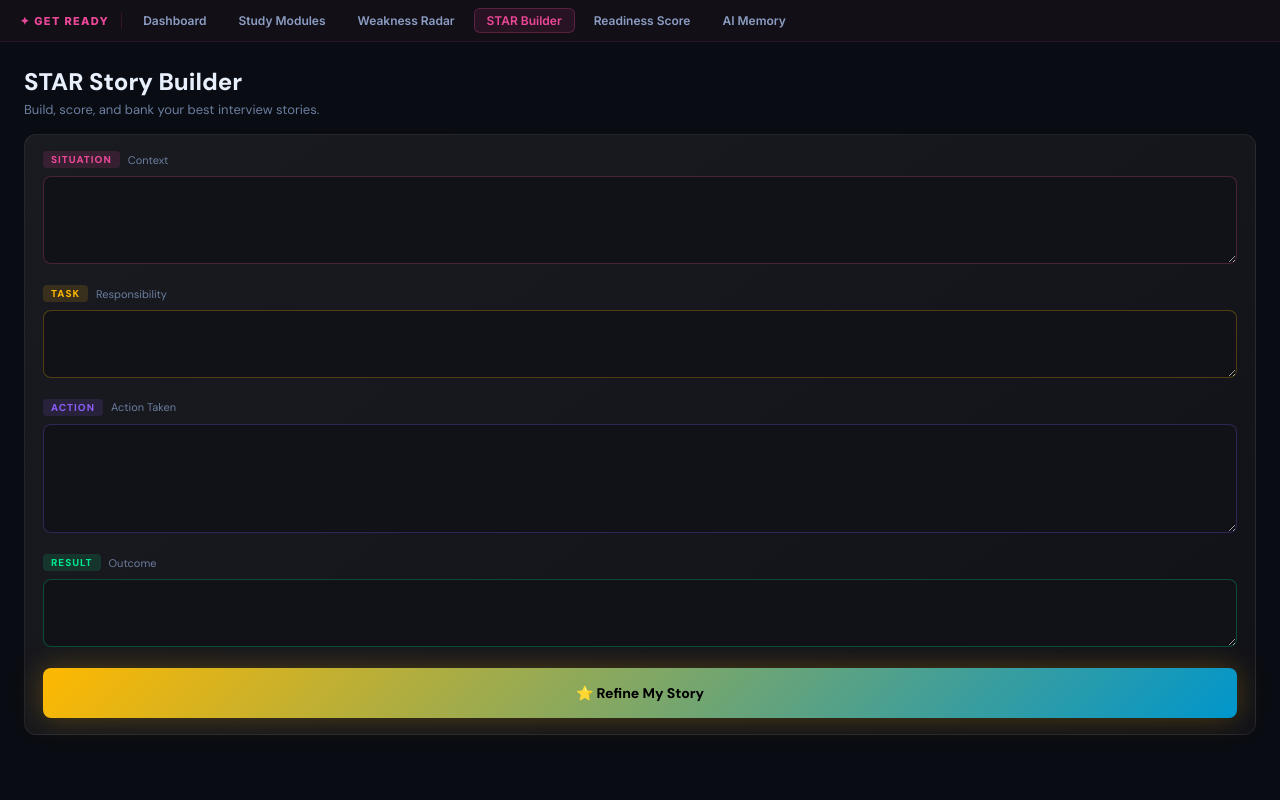
Test: STARBuilder › shows no claims warning for a faithful polish
The width and height of the screenshot is (1280, 800).
In the text box named "Situation": (640, 220) 43,176 -> 1237,264, type "Our checkout team had to migrate platforms while 2 million users shopped daily."
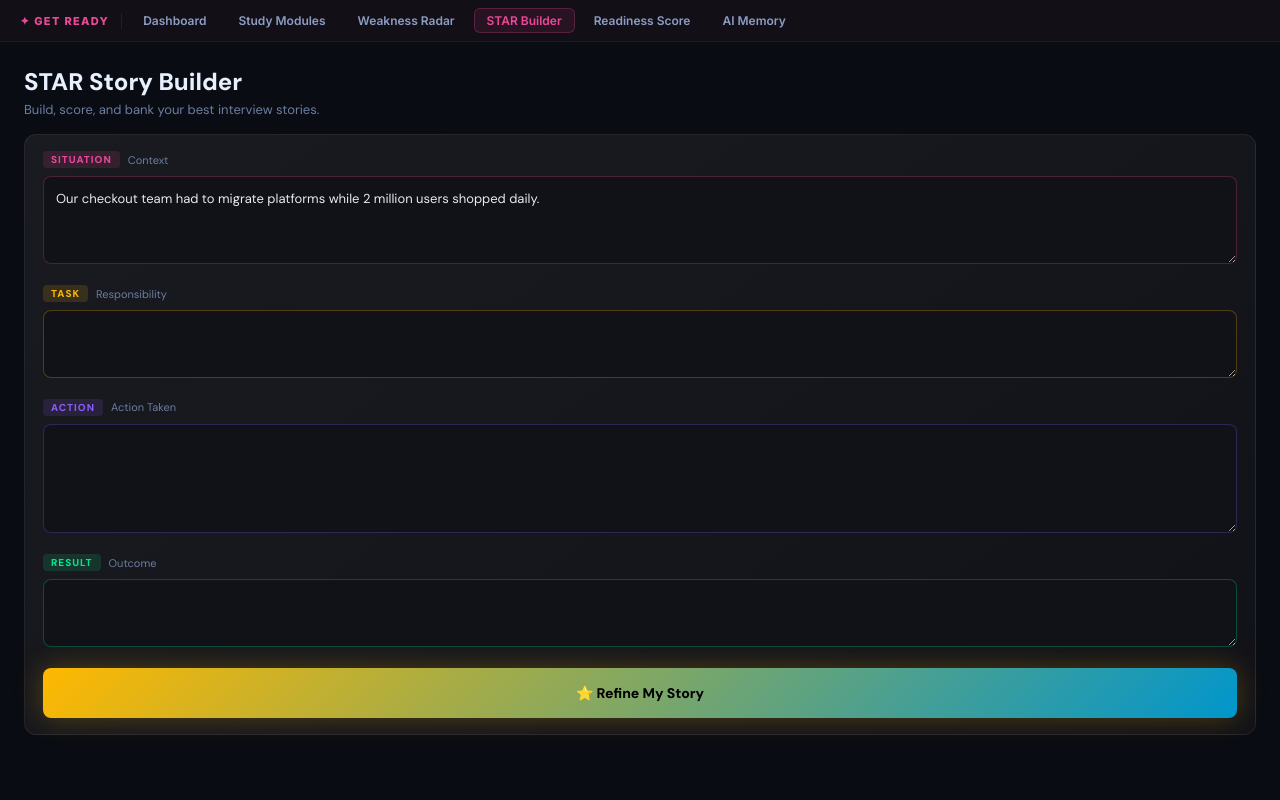
In the text box named "Task": (640, 344) 43,310 -> 1237,378, type "I owned the migration plan and had to avoid downtime."
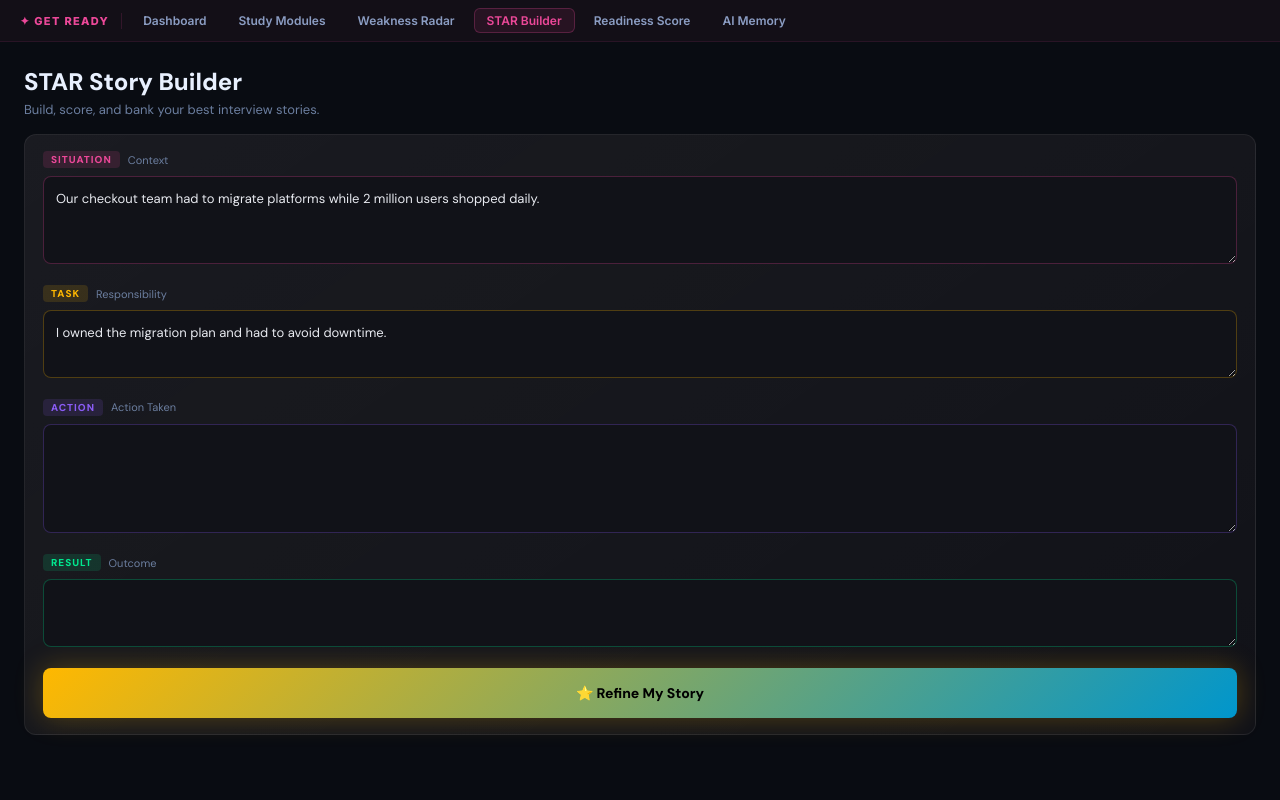
In the text box named "Action": (640, 479) 43,424 -> 1237,533, type "I set up blue-green deployments and wrote rollback scripts."
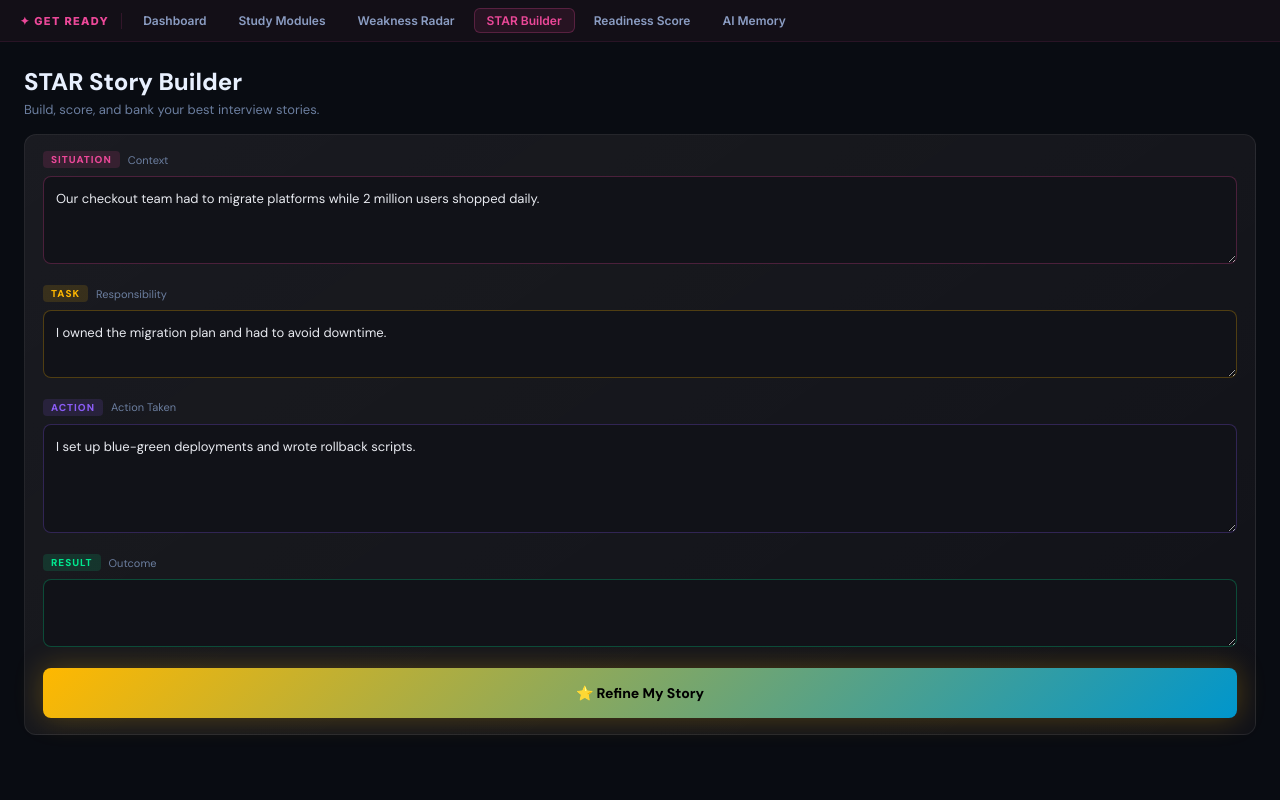
In the text box named "Result": (640, 613) 43,579 -> 1237,647, type "We finished with no downtime and conversion rose 15 percent."
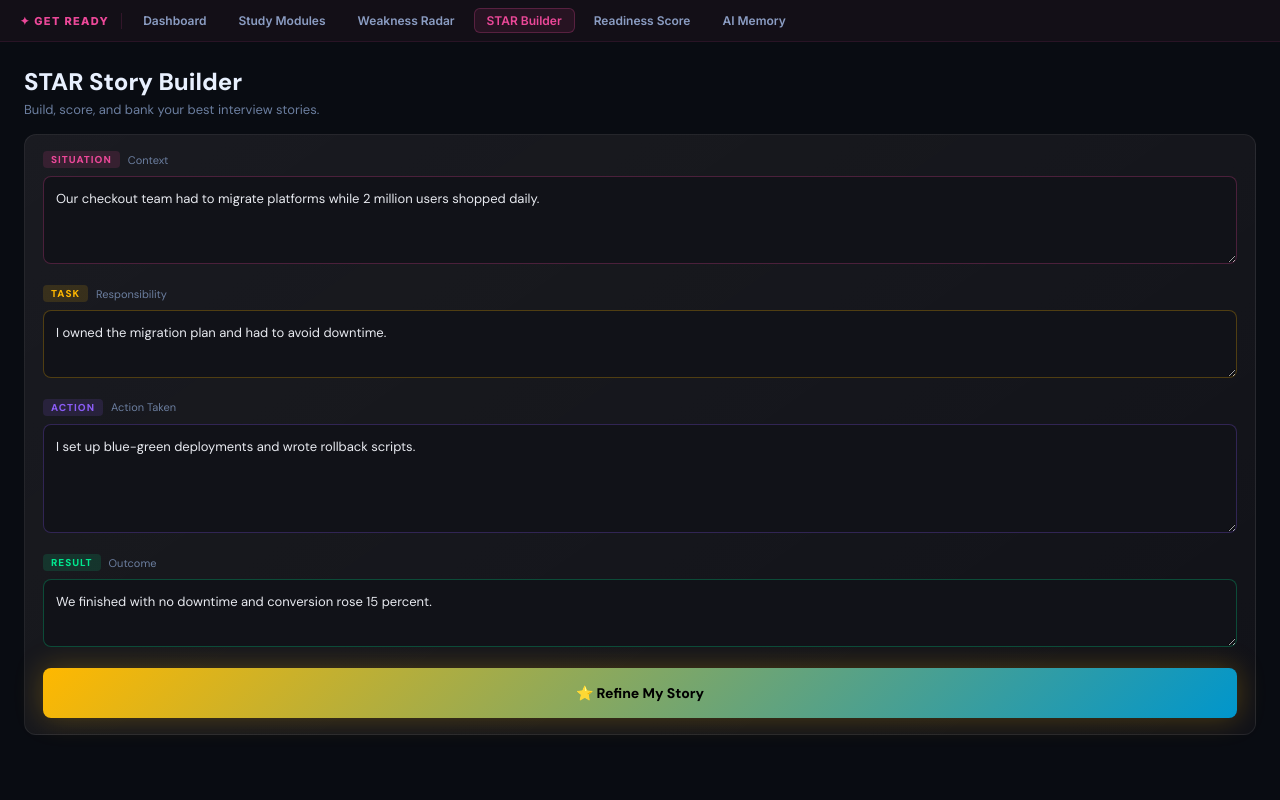
Click the button "⭐ Refine My Story": (640, 693) 43,668 -> 1237,718
(page scrolled)
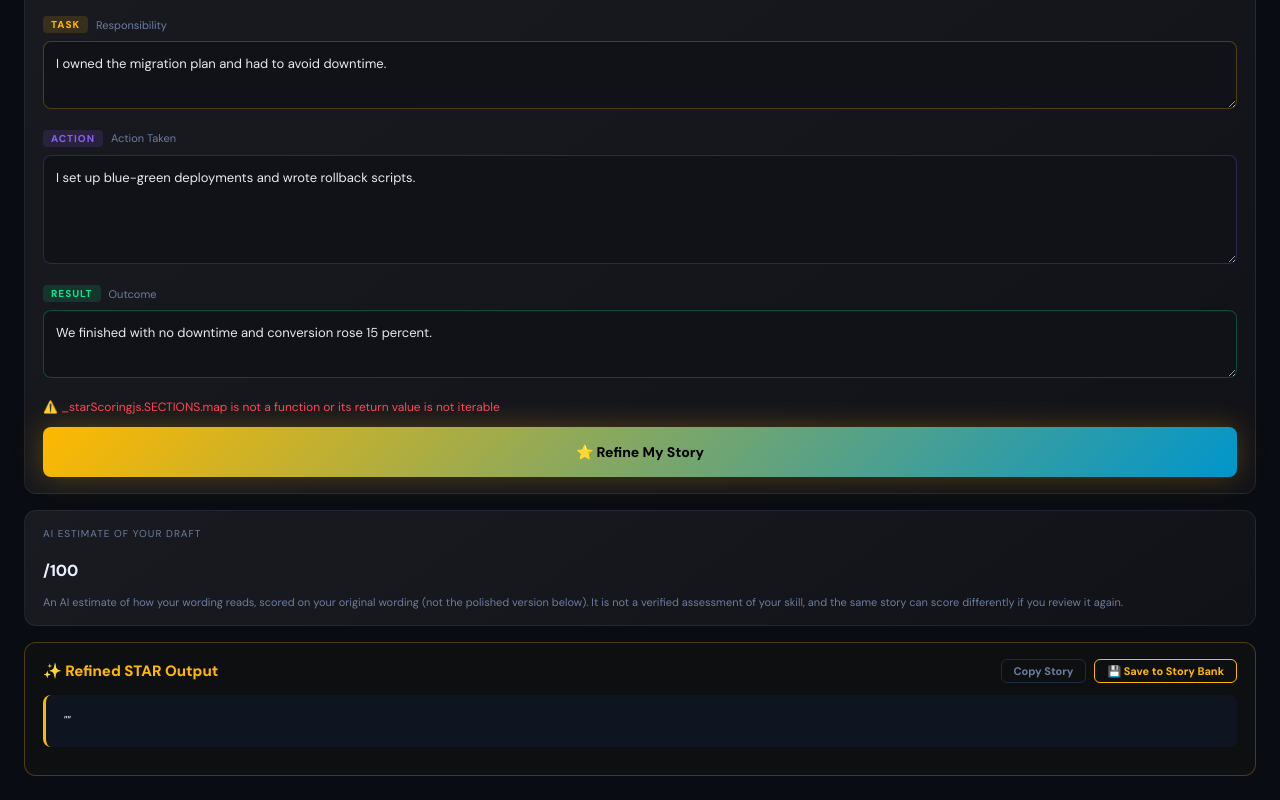
Now the text "✨ Refined STAR Output" is shown, box 43,661 -> 218,681
